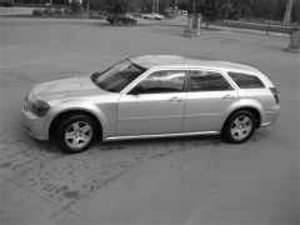car: (17, 52, 284, 156)
